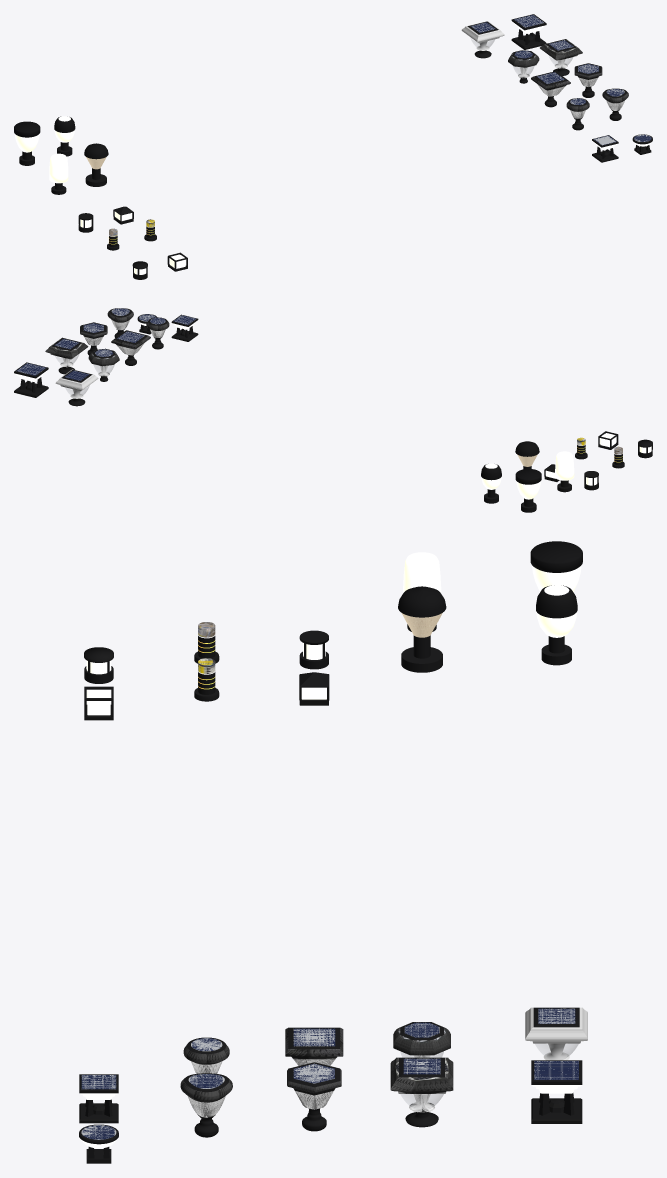
The model's file is gate_lights_all.glb.
3 views of the same model, one above another, from view 1: azimuth 30°, elevation 25°; view 2: azimuth 150°, elevation 25°; view 3: azimuth 270°, elevation 25° (orthographic). The views are drawn at different scales.
Visible parts, largest first — view 1: pl_shade.002; view 2: pl_shade.002, sqc_cap, sqc_cap.001, pl_cap, pl_cap.002; view 3: pl_cap, sqc_cap.001, sqc_cap, pl_shade.002, pl_cap.002, oct_cap, pl_cap.001.
Part boxes in pixels (<box>): pl_shade.002: <box>49,153,68,183</box>; pl_shade.002: <box>555,451,574,480</box>; sqc_cap: <box>55,369,98,390</box>; sqc_cap.001: <box>45,337,88,359</box>; pl_cap: <box>515,469,541,484</box>; pl_cap.002: <box>515,441,539,456</box>; pl_cap: <box>530,541,582,572</box>; sqc_cap.001: <box>390,1057,453,1093</box>; sqc_cap: <box>525,1007,587,1043</box>; pl_shade.002: <box>403,552,441,593</box>; pl_cap.002: <box>398,586,446,617</box>; oct_cap: <box>393,1023,450,1055</box>; pl_cap.001: <box>536,585,577,618</box>.
Bounding box in the file's own units: 8.93 × 1.05 × 3.78.
Materials: 23 (16 with a texture image).
